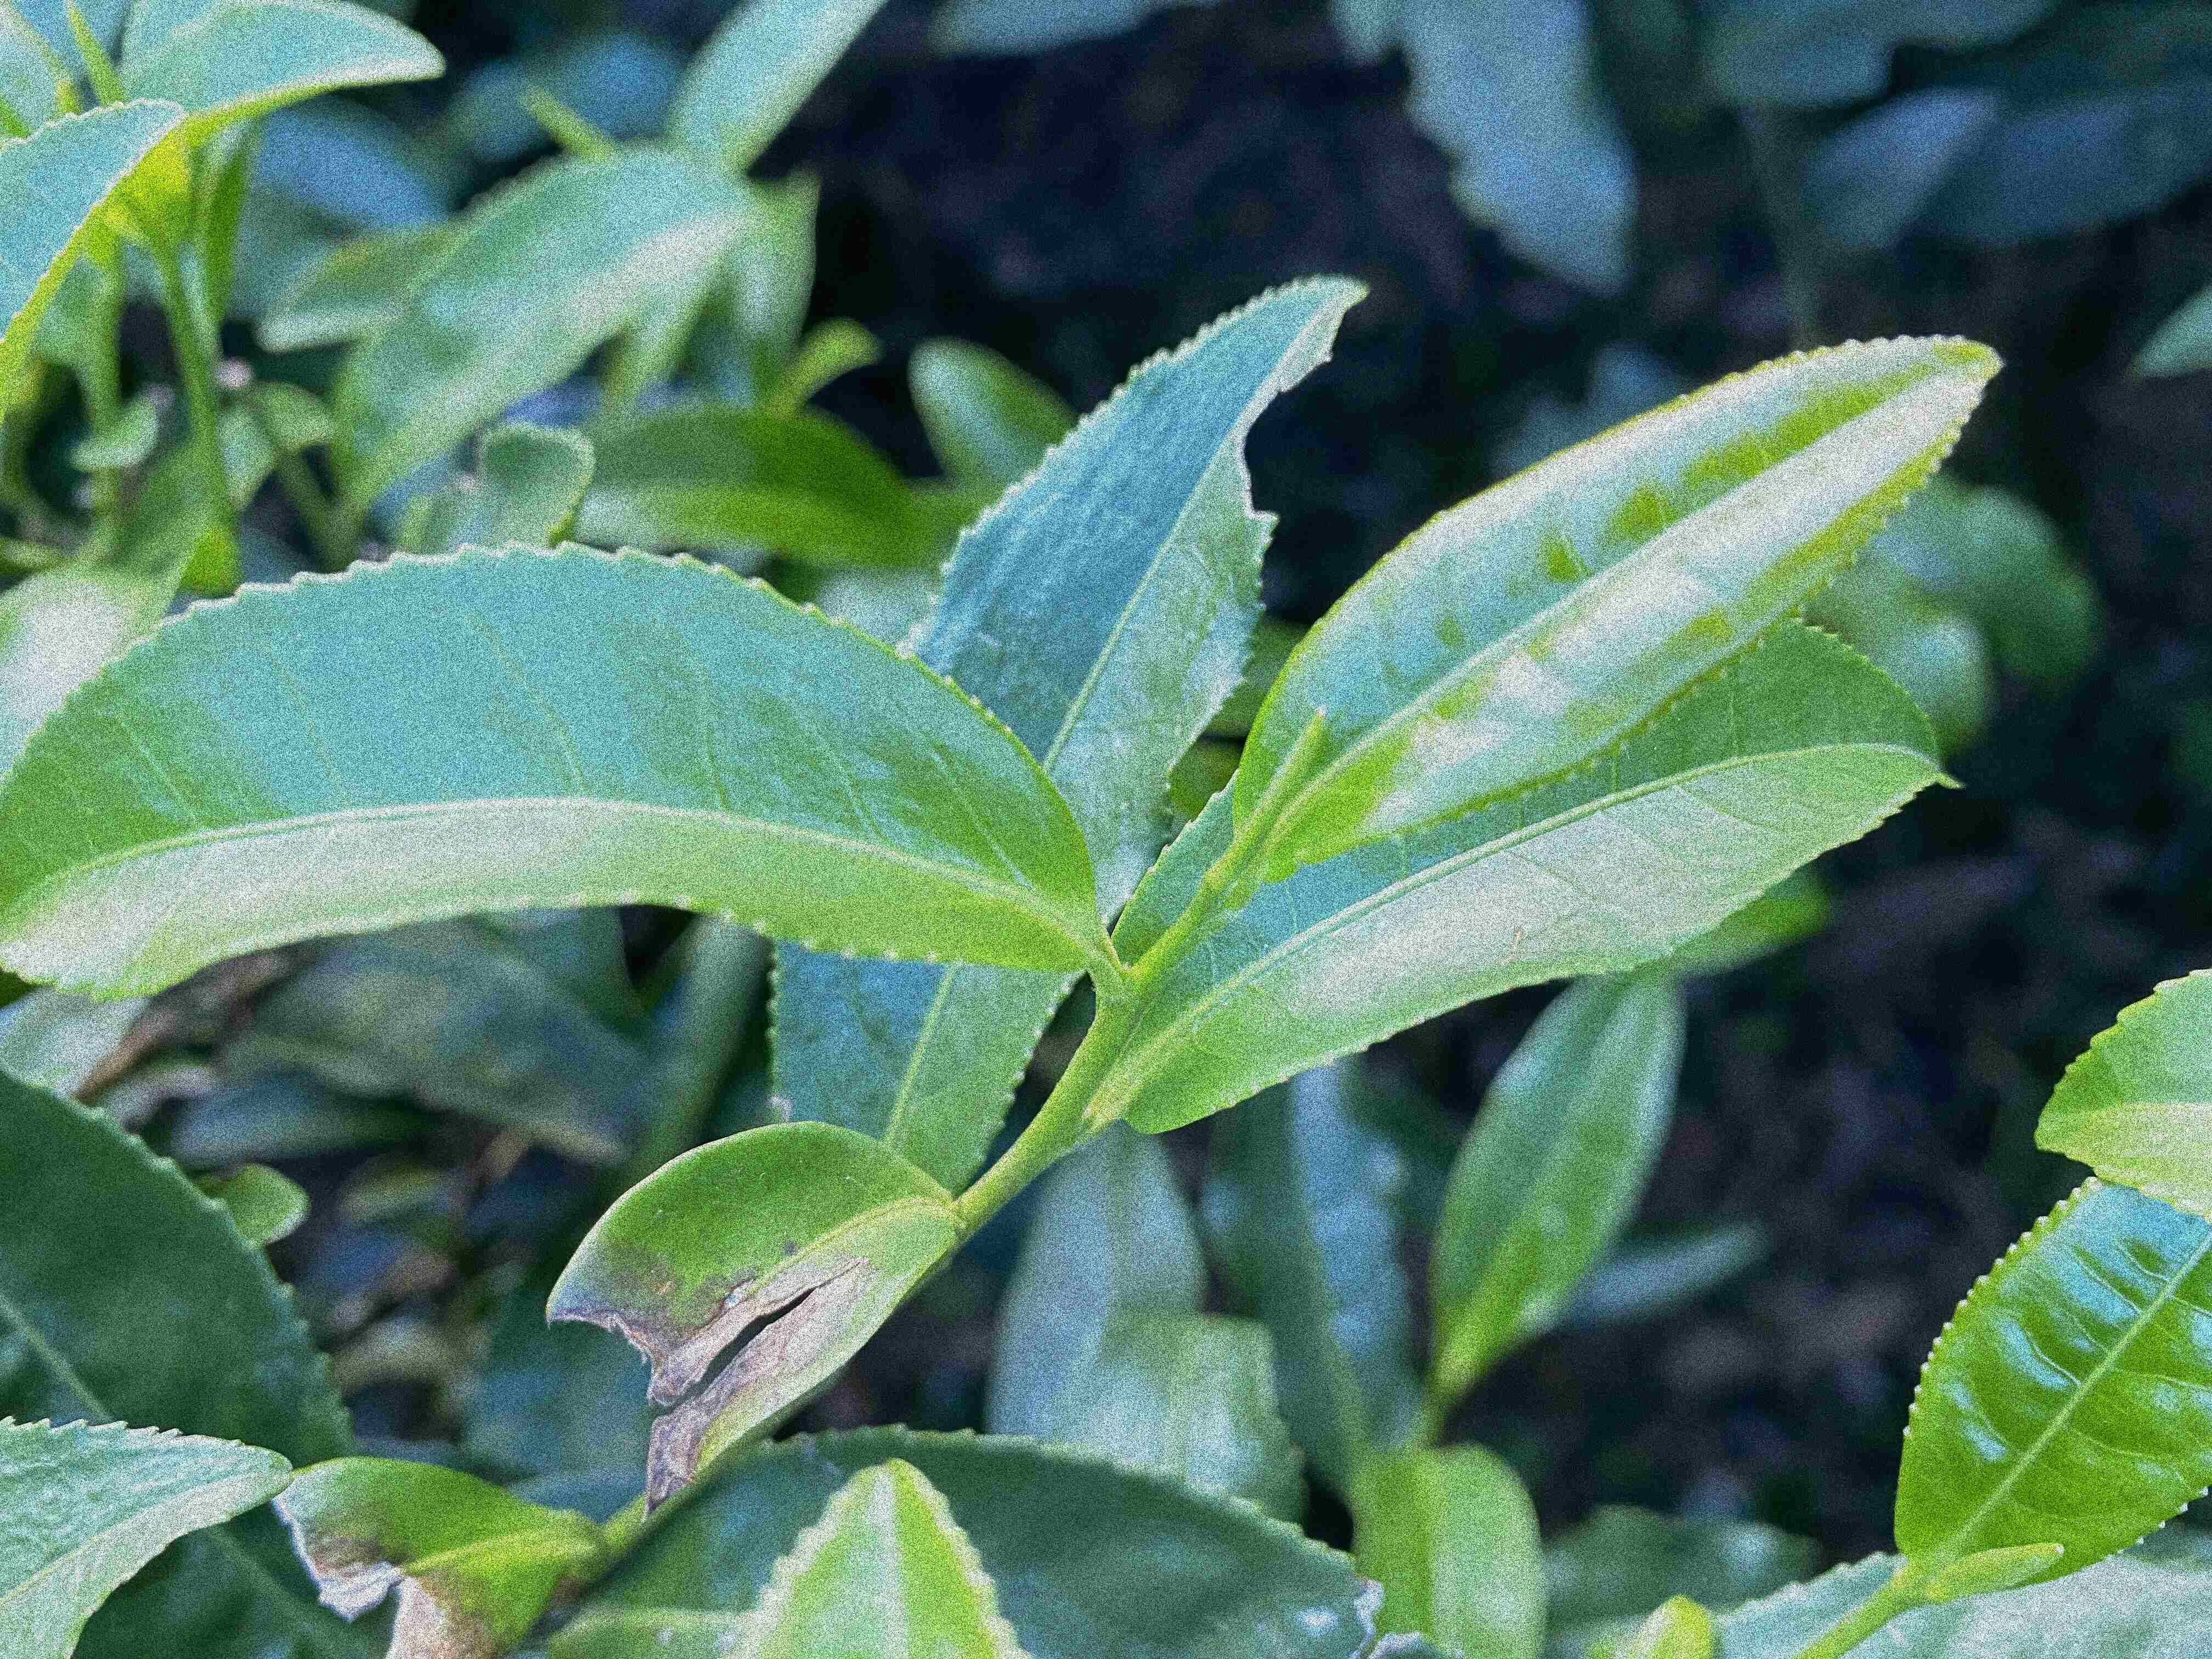chihuo_low: (759, 272, 1372, 1194)
healthy: (2, 538, 1108, 1004), (1228, 331, 2003, 873), (1892, 1178, 2209, 1591)
